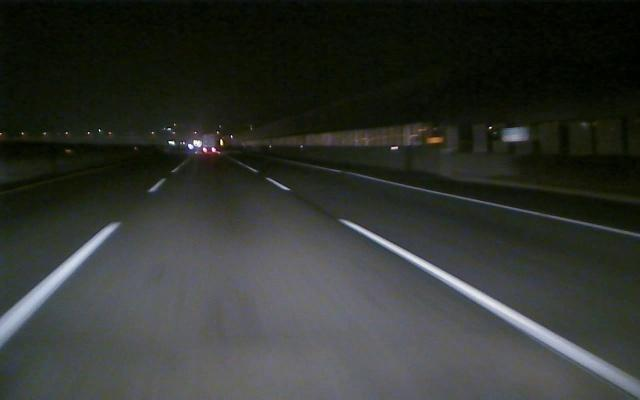lane: (270, 178, 638, 394), (3, 180, 164, 344), (367, 177, 640, 238)
